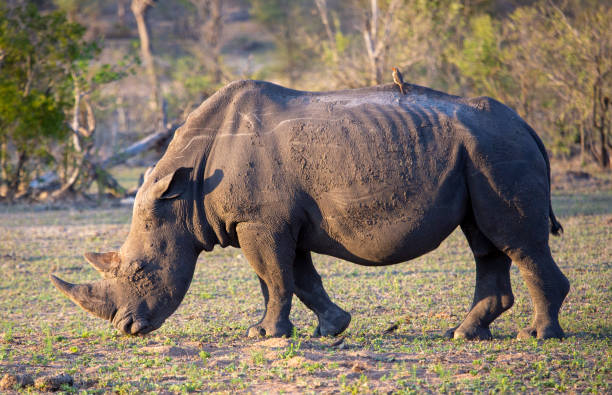rhino: (33, 167, 238, 347)
